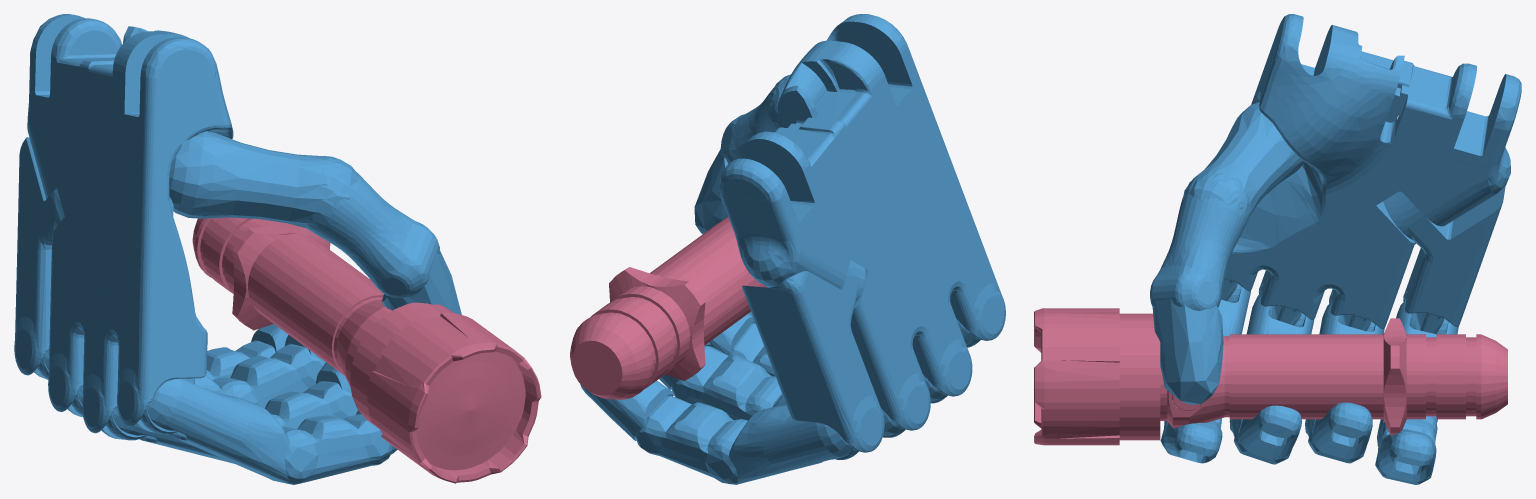
The picture shows the model from 3 angles, left to right: view 1: azimuth 30°, elevation 25°; view 2: azimuth 150°, elevation 25°; view 3: azimuth 270°, elevation 25°; orthographic projection. The views are drawn at different scales.
Visible parts, largest first — view 1: 33; view 2: 33; view 3: 33.
Part boxes in pixels (x1=…): 33: x1=14, y1=14, x2=541, y2=484; 33: x1=570, y1=14, x2=1005, y2=484; 33: x1=1034, y1=14, x2=1521, y2=484.
Bounding box in the file's own units: 0.1071 × 0.1422 × 0.154.
